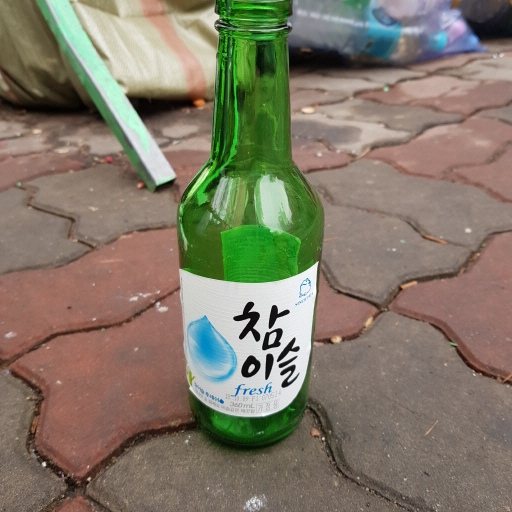Glass_0: (175, 1, 326, 454)
